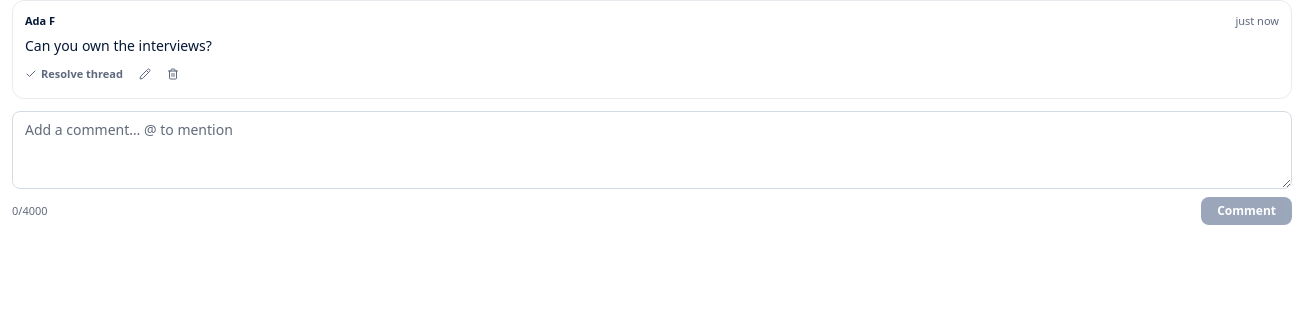
Test case: CommentThread › surfaces a rejected edit instead of closing the editor
Click the button named "Edit comment" at x=145, y=74, box [133,62,157,86]
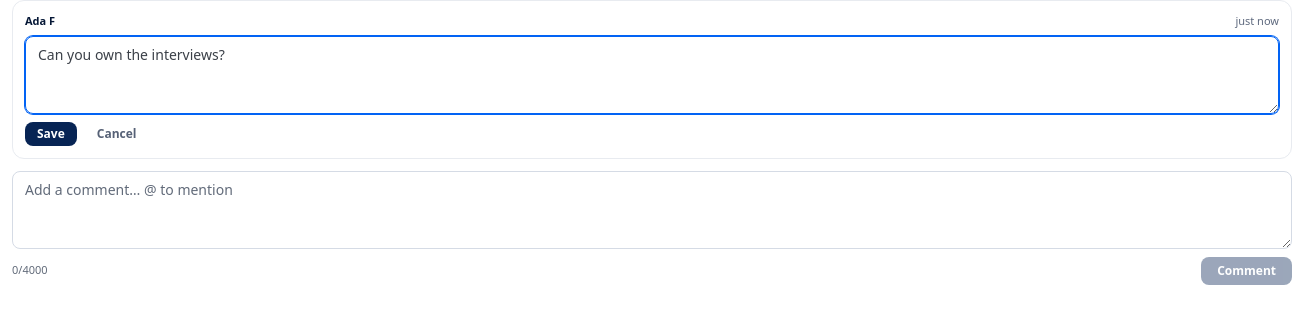
Replace the text in the text box named "Edit comment" with "Changed" at x=652, y=74, box [25,36,1279,114]
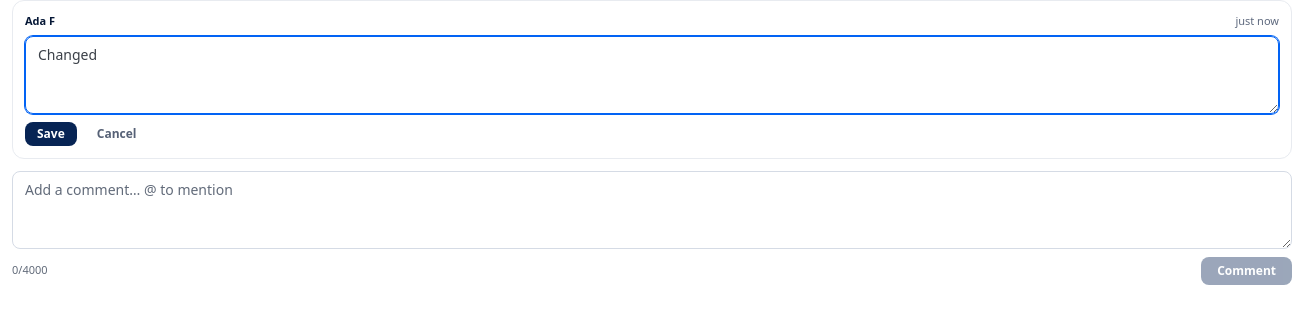
Click the button "Save" at x=51, y=134, box [25,122,77,146]
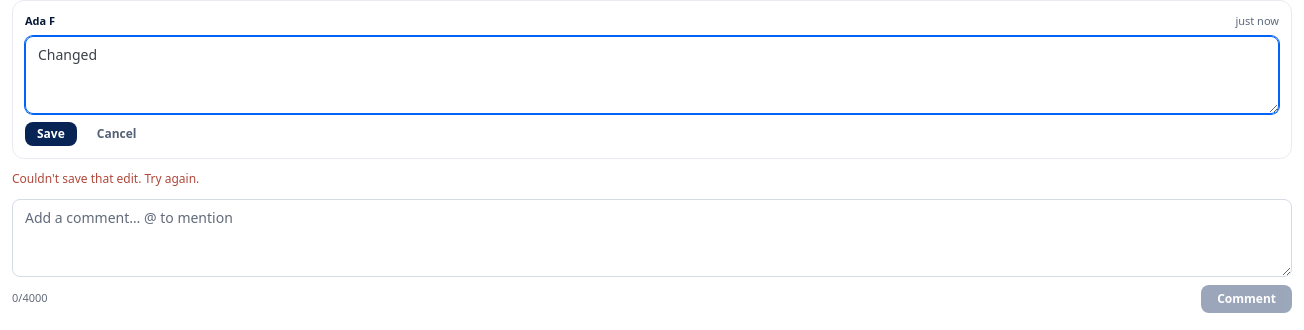
Result: the message shows "Couldn't save that edit" at [12,170,199,186]
